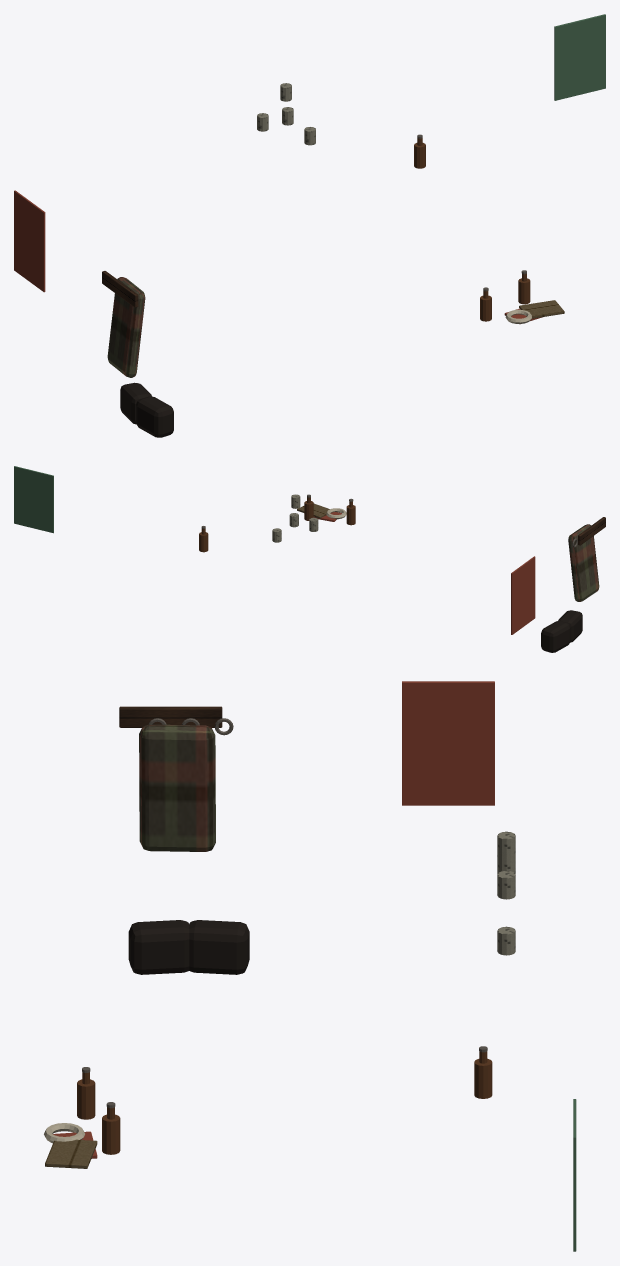
Rendered from house-clutter-clusters.glb.
3 renders of one model, top to bottom at view 1: azimuth 30°, elevation 25°; view 2: azimuth 150°, elevation 25°; view 3: azimuth 270°, elevation 25°, orthographic. The views are drawn at different scales.
Parts seen in each view (by area): view 1: SM_FictionalPoster_Back, SM_lonely_house_clutter_clusters_FictionalPosterRed, SM_HangingCoat, SM_lonely_house_clutter_clusters_SootBlack, SM_lonely_house_clutter_clusters_BrownGlass, SM_lonely_house_clutter_clusters_DirtyEnamel, SM_CoatRackBoard; view 2: SM_FictionalPoster_Back, SM_lonely_house_clutter_clusters_FictionalPosterRed, SM_HangingCoat, SM_lonely_house_clutter_clusters_SootBlack, SM_lonely_house_clutter_clusters_BrownGlass, SM_lonely_house_clutter_clusters_DirtyEnamel, SM_CoatRackBoard; view 3: SM_lonely_house_clutter_clusters_FictionalPosterRed, SM_HangingCoat, SM_lonely_house_clutter_clusters_SootBlack, SM_lonely_house_clutter_clusters_BrownGlass, SM_CoatRackBoard, SM_lonely_house_clutter_clusters_DirtyEnamel, SM_Magazine_A.
Boxes of the visible parts, <box> form: SM_FictionalPoster_Back: <box>554,14,605,100</box>; SM_lonely_house_clutter_clusters_FictionalPosterRed: <box>14,190,542,324</box>; SM_HangingCoat: <box>107,277,145,377</box>; SM_lonely_house_clutter_clusters_SootBlack: <box>120,382,173,437</box>; SM_lonely_house_clutter_clusters_BrownGlass: <box>414,138,530,321</box>; SM_lonely_house_clutter_clusters_DirtyEnamel: <box>257,83,315,145</box>; SM_CoatRackBoard: <box>102,271,138,307</box>; SM_FictionalPoster_Back: <box>14,466,53,533</box>; SM_lonely_house_clutter_clusters_FictionalPosterRed: <box>313,512,535,634</box>; SM_HangingCoat: <box>568,524,599,601</box>; SM_lonely_house_clutter_clusters_SootBlack: <box>541,610,582,652</box>; SM_lonely_house_clutter_clusters_BrownGlass: <box>199,497,355,552</box>; SM_lonely_house_clutter_clusters_DirtyEnamel: <box>272,494,318,542</box>; SM_CoatRackBoard: <box>578,517,605,545</box>; SM_lonely_house_clutter_clusters_FictionalPosterRed: <box>53,681,494,1158</box>; SM_HangingCoat: <box>139,724,215,851</box>; SM_lonely_house_clutter_clusters_SootBlack: <box>128,920,249,974</box>; SM_lonely_house_clutter_clusters_BrownGlass: <box>77,1051,492,1154</box>; SM_CoatRackBoard: <box>119,706,222,727</box>; SM_lonely_house_clutter_clusters_DirtyEnamel: <box>497,831,515,955</box>; SM_Magazine_A: <box>45,1139,97,1168</box>.
Size of the model in its own units: 6.65 by 2.11 by 3.2.
10 materials, 4 textured.
